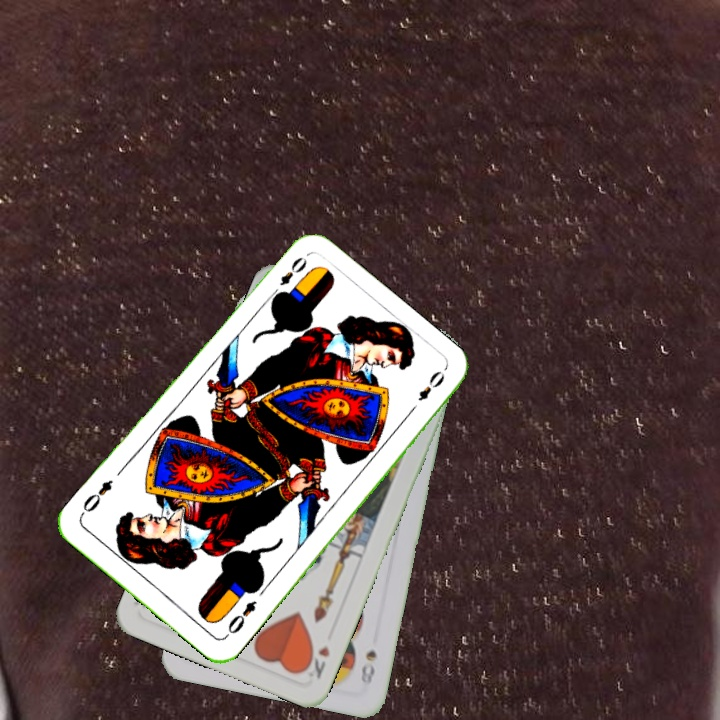EO: (266, 253, 310, 302), (221, 596, 259, 640)
HK: (299, 641, 332, 682)
S8: (356, 645, 379, 689)
